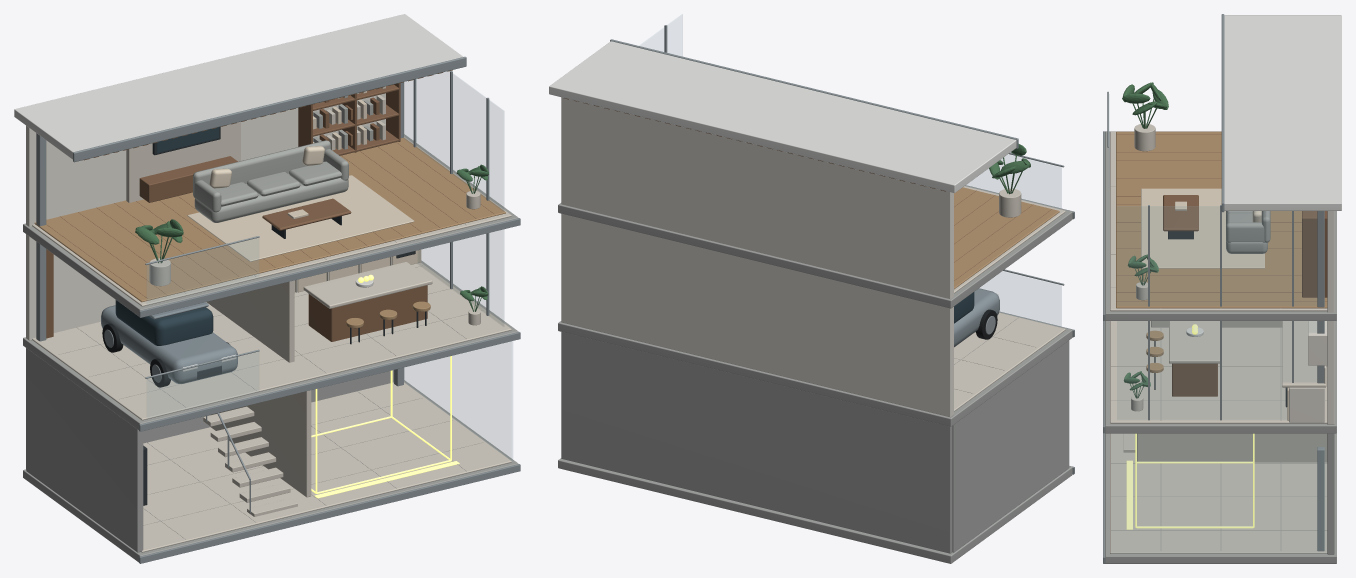
The model's file is villa-environment.glb.
3 renders of one model, left to right at view 1: azimuth 30°, elevation 25°; view 2: azimuth 150°, elevation 25°; view 3: azimuth 270°, elevation 25°, orthographic. The views are drawn at different scales.
Visible parts, largest first — view 1: Villa_Floor finish, Villa_Roof canopy, Villa_Lounge wood floor, Villa_Floor finish.001, Villa_Basement left wall, Villa_Upper back wall, Villa_Side glass.001, Villa_Basement right ghost wall, Villa_Lounge rug, Villa_Safe room partition, Villa_Balcony glass.001, Villa_Balcony glass (+30 smaller); view 2: Villa_Basement back wall, Villa_Ground back wall, Villa_Upper back wall, Villa_Roof canopy, Villa_Basement left wall, Villa_Floor slab.001, Villa_Floor slab.002, Villa_Floor slab, Villa_Lounge wood floor, Villa_Floor finish.001, Villa_Balcony glass, Villa_Balcony glass.001 (+4 smaller); view 3: Villa_Basement right ghost wall, Villa_Roof canopy, Villa_Floor finish, Villa_Side glass.001, Villa_Side glass, Villa_Lounge wood floor, Villa_Floor finish.001, Villa_Lounge rug, Villa_Safe room partition, Villa_Floor slab.002, Villa_Floor slab.001, Villa_Floor slab (+22 smaller).
Boxes of the visible parts, x1,y1,x2,y2 form: Villa_Floor finish: [141, 382, 511, 552]; Villa_Roof canopy: [14, 14, 463, 159]; Villa_Lounge wood floor: [34, 137, 505, 302]; Villa_Floor finish.001: [32, 262, 511, 420]; Villa_Basement left wall: [26, 348, 143, 552]; Villa_Upper back wall: [26, 82, 404, 226]; Villa_Side glass.001: [403, 71, 504, 210]; Villa_Basement right ghost wall: [404, 341, 512, 460]; Villa_Lounge rug: [187, 175, 414, 261]; Villa_Safe room partition: [210, 390, 311, 497]; Villa_Balcony glass.001: [147, 238, 258, 304]; Villa_Balcony glass: [147, 352, 258, 418]; Villa_Basement back wall: [561, 332, 952, 553]; Villa_Ground back wall: [561, 213, 953, 417]; Villa_Upper back wall: [561, 97, 953, 298]; Villa_Roof canopy: [549, 41, 1016, 192]; Villa_Basement left wall: [952, 340, 1069, 552]; Villa_Floor slab.001: [558, 312, 1072, 426]; Villa_Floor slab.002: [558, 185, 1072, 308]; Villa_Floor slab: [558, 458, 1072, 563]; Villa_Lounge wood floor: [954, 187, 1059, 289]; Villa_Floor finish.001: [954, 312, 1065, 411]; Villa_Balcony glass: [980, 271, 1061, 326]; Villa_Balcony glass.001: [966, 154, 1061, 208]; Villa_Basement right ghost wall: [1111, 434, 1326, 553]; Villa_Roof canopy: [1224, 15, 1341, 210]; Villa_Floor finish: [1110, 433, 1327, 553]; Villa_Side glass.001: [1117, 206, 1316, 305]; Villa_Side glass: [1117, 321, 1316, 419]; Villa_Lounge wood floor: [1116, 131, 1327, 308]; Villa_Floor finish.001: [1110, 321, 1327, 423]; Villa_Lounge rug: [1141, 188, 1264, 268]; Villa_Safe room partition: [1137, 433, 1327, 462]; Villa_Floor slab.002: [1105, 131, 1336, 320]; Villa_Floor slab.001: [1105, 321, 1336, 433]; Villa_Floor slab: [1105, 433, 1336, 563].
Bounding box in the file's own units: 11.2 × 10.06 × 5.98.
